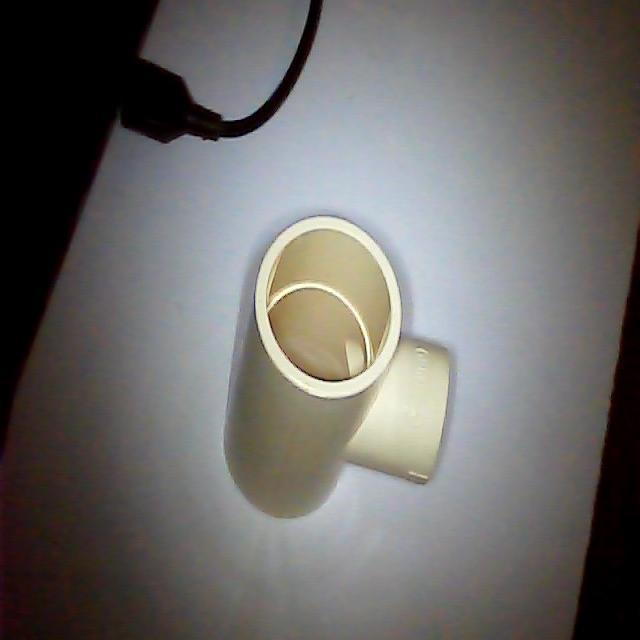T Joint: (221, 212, 453, 523)
